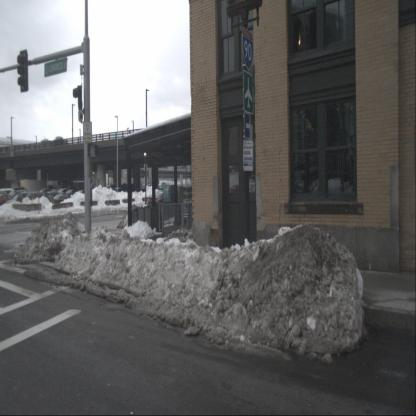vehicle-car: (147, 191, 175, 215), (26, 191, 50, 208), (0, 194, 18, 210), (52, 195, 72, 207), (45, 192, 63, 204), (56, 188, 74, 198)
